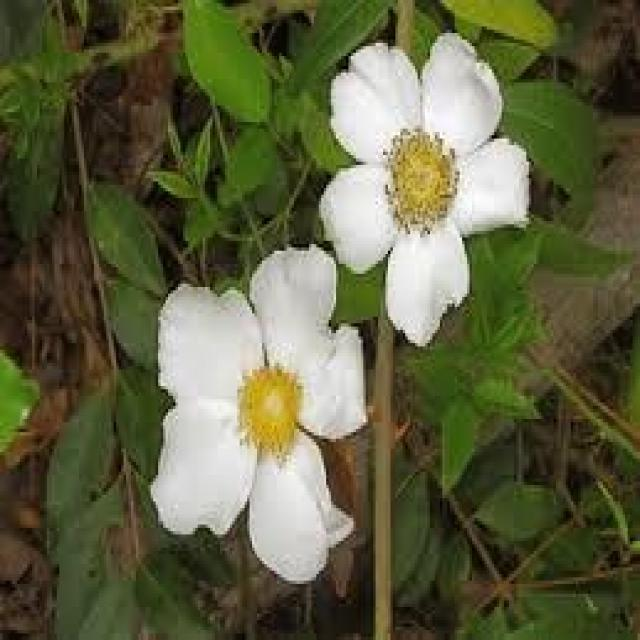organic waste: (132, 249, 384, 596), (294, 31, 536, 348)
